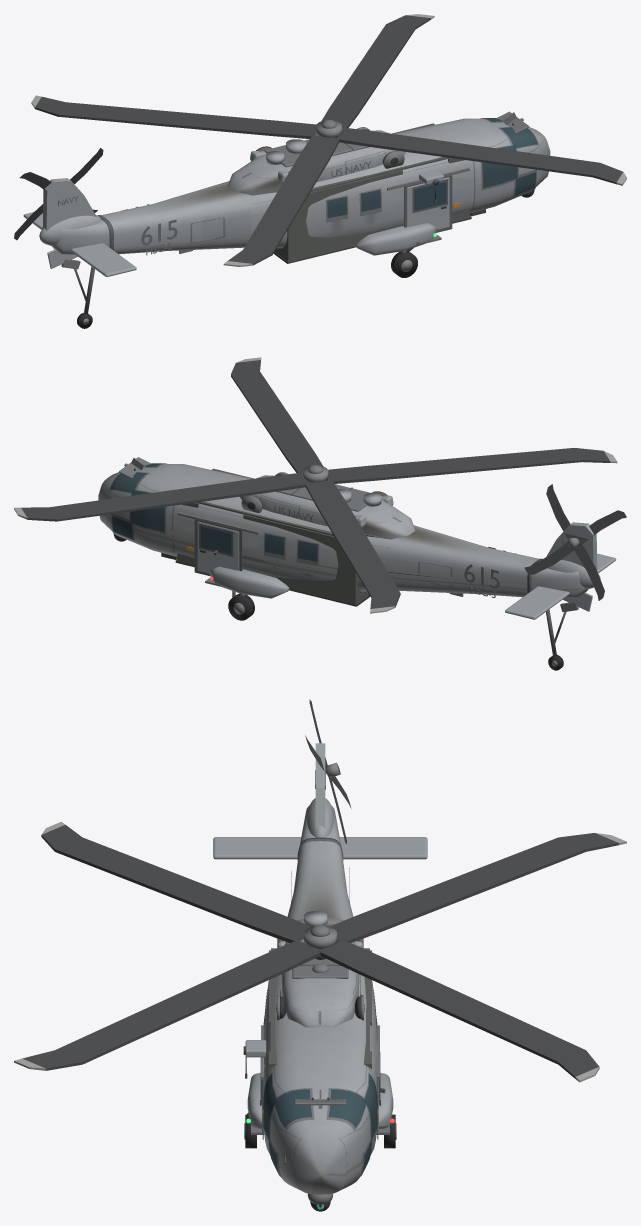
The model's file is seahawk.glb.
3 views of the same model, one above another, from view 1: azimuth 30°, elevation 25°; view 2: azimuth 150°, elevation 25°; view 3: azimuth 270°, elevation 25° (orthographic). The views are drawn at different scales.
Visible parts, largest first — view 1: SH_Fuselage, SH_Blade3, SH_Blade1, SH_Blade2, SH_Blade0, SH_Doghouse, SH_CabinWallStbd, SH_TailFin, SH_SponsonStbd, SH_Stabilator, SH_DoorStbd, SH_DoorWinFrameStbd (+11 smaller); view 2: SH_Fuselage, SH_Blade0, SH_Blade2, SH_Blade1, SH_Blade3, SH_Doghouse, SH_CabinWallPort, SH_SponsonPort, SH_Stabilator, SH_DoorPort, SH_TailFin, SH_DoorWinFramePort (+16 smaller); view 3: SH_Fuselage, SH_Blade3, SH_Blade0, SH_Blade1, SH_Blade2, SH_Stabilator, SH_Doghouse, SH_GlazeFrameWindshieldStbd, SH_GlazeFrameWindshieldPort, SH_GlazeWindshieldPort, SH_GlazeWindshieldStbd, SH_TailFin (+2 smaller).
Part boxes in pixels (left/top/right/bottom): SH_Fuselage: left=52, top=118, right=550, bottom=254; SH_Blade3: left=337, top=127, right=626, bottom=185; SH_Blade1: left=31, top=95, right=316, bottom=138; SH_Blade2: left=223, top=135, right=339, bottom=266; SH_Blade0: left=321, top=14, right=434, bottom=129; SH_Doghouse: left=228, top=130, right=406, bottom=195; SH_CabinWallStbd: left=287, top=170, right=402, bottom=262; SH_TailFin: left=42, top=178, right=96, bottom=231; SH_SponsonStbd: left=356, top=223, right=437, bottom=255; SH_Stabilator: left=23, top=212, right=136, bottom=276; SH_DoorStbd: left=407, top=177, right=449, bottom=230; SH_DoorWinFrameStbd: left=412, top=179, right=447, bottom=213; SH_Fuselage: left=98, top=464, right=588, bottom=597; SH_Blade0: left=14, top=472, right=307, bottom=521; SH_Blade2: left=328, top=448, right=617, bottom=483; SH_Blade1: left=305, top=480, right=400, bottom=613; SH_Blade3: left=231, top=357, right=323, bottom=474; SH_Doghouse: left=239, top=475, right=414, bottom=539; SH_CabinWallPort: left=243, top=514, right=356, bottom=605; SH_SponsonPort: left=209, top=566, right=289, bottom=598; SH_Stabilator: left=505, top=553, right=616, bottom=619; SH_DoorPort: left=197, top=521, right=239, bottom=573; SH_TailFin: left=546, top=522, right=597, bottom=570; SH_DoorWinFramePort: left=199, top=523, right=233, bottom=556; SH_Fuselage: left=263, top=805, right=377, bottom=1194; SH_Blade3: left=14, top=940, right=322, bottom=1070; SH_Blade0: left=318, top=940, right=599, bottom=1082; SH_Blade1: left=329, top=833, right=626, bottom=942; SH_Blade2: left=41, top=822, right=311, bottom=942; SH_Stabilator: left=213, top=837, right=427, bottom=859; SH_Doghouse: left=281, top=918, right=359, bottom=1027; SH_GlazeFrameWindshieldStbd: left=274, top=1088, right=314, bottom=1130; SH_GlazeFrameWindshieldPort: left=326, top=1088, right=366, bottom=1130; SH_GlazeWindshieldPort: left=328, top=1089, right=366, bottom=1127; SH_GlazeWindshieldStbd: left=274, top=1089, right=312, bottom=1127; SH_TailFin: left=315, top=743, right=325, bottom=828.
Bounding box in the file's own units: 16.21 × 5.29 × 12.53.
24 materials, 2 textured.
